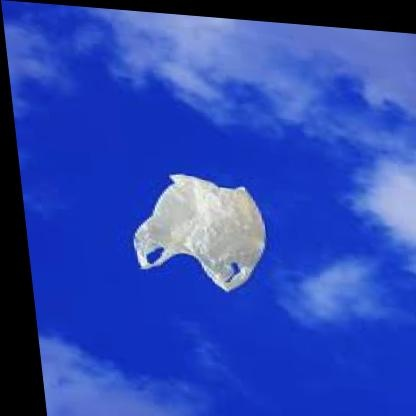trash: (134, 174, 264, 291)
